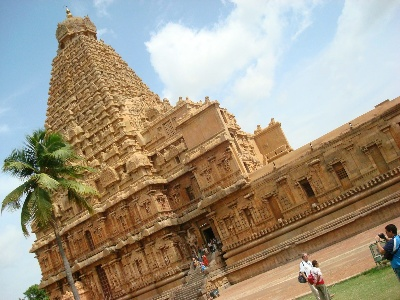gopura: (14, 21, 205, 175)
